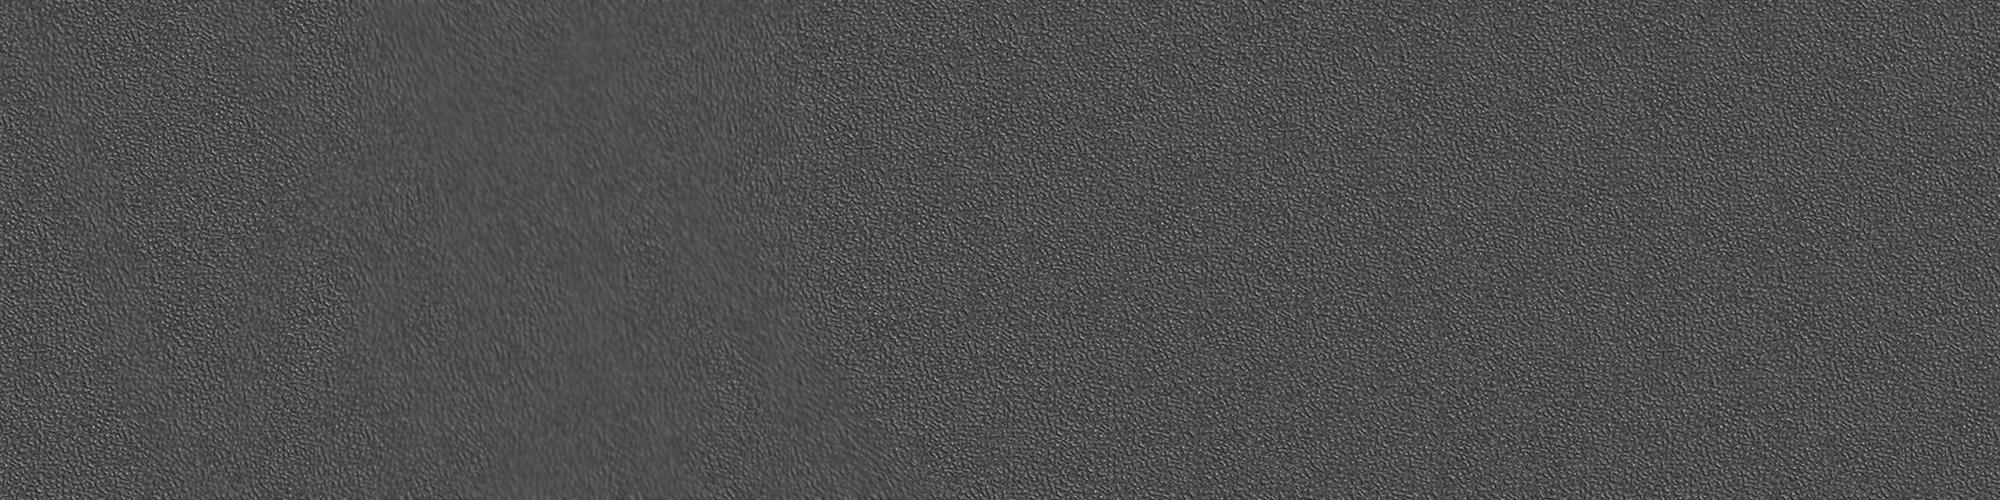Flow_Lines: (318, 3, 824, 496)
